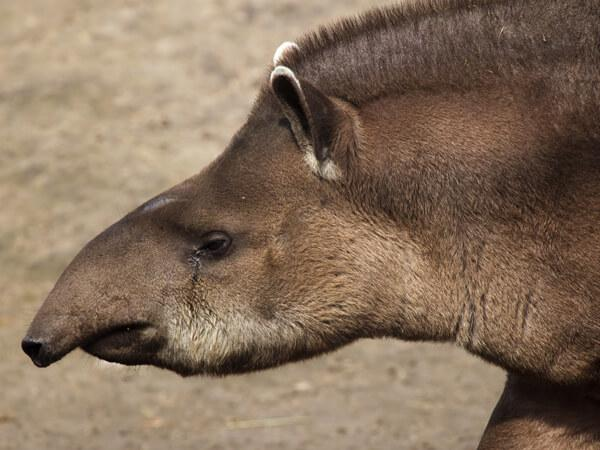Anta: (20, 12, 595, 416)
